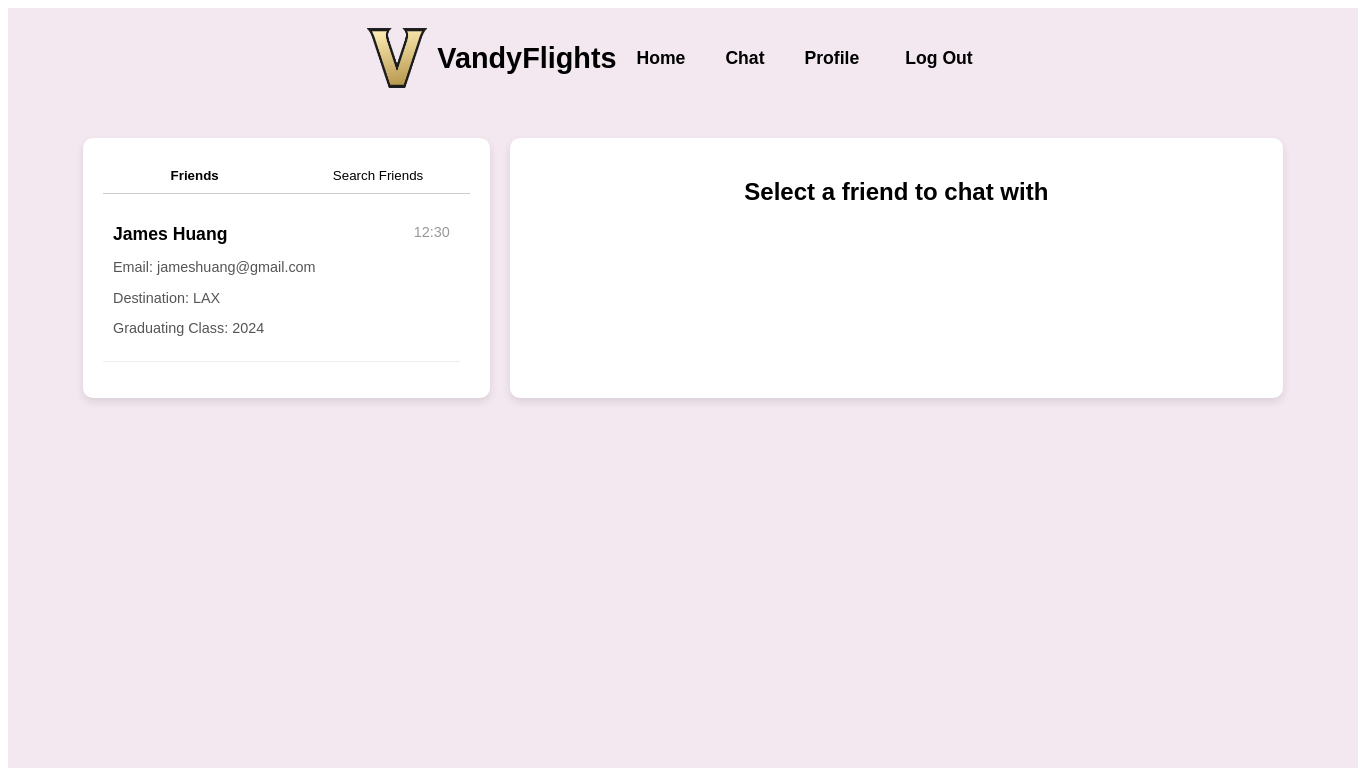
ChatPage › adds a friend from search results to friends list
Click the button "Search Friends".
click(378, 176)  # box [286,158,470,193]
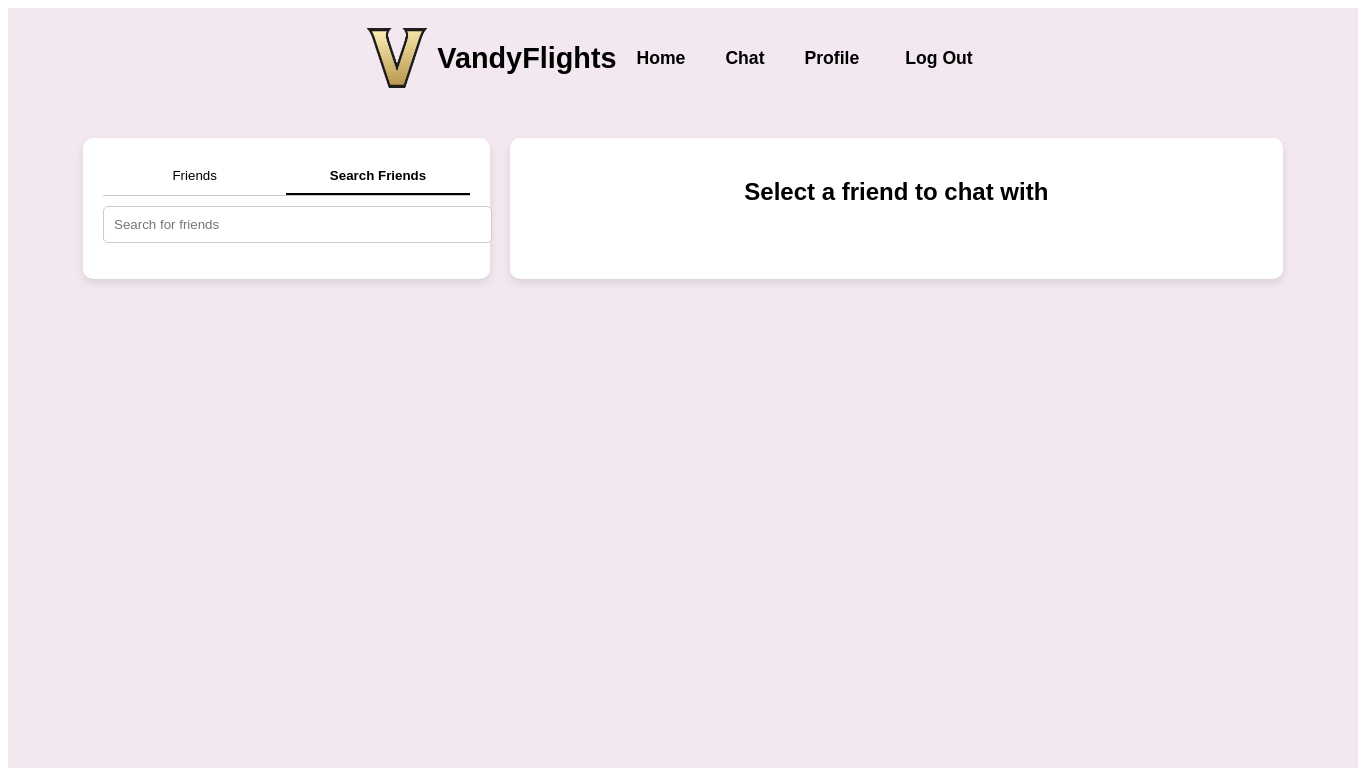
Type "Jane" into the field with placeholder "Search for friends".
click(297, 224); type("Jane")  # box [103,206,492,243]
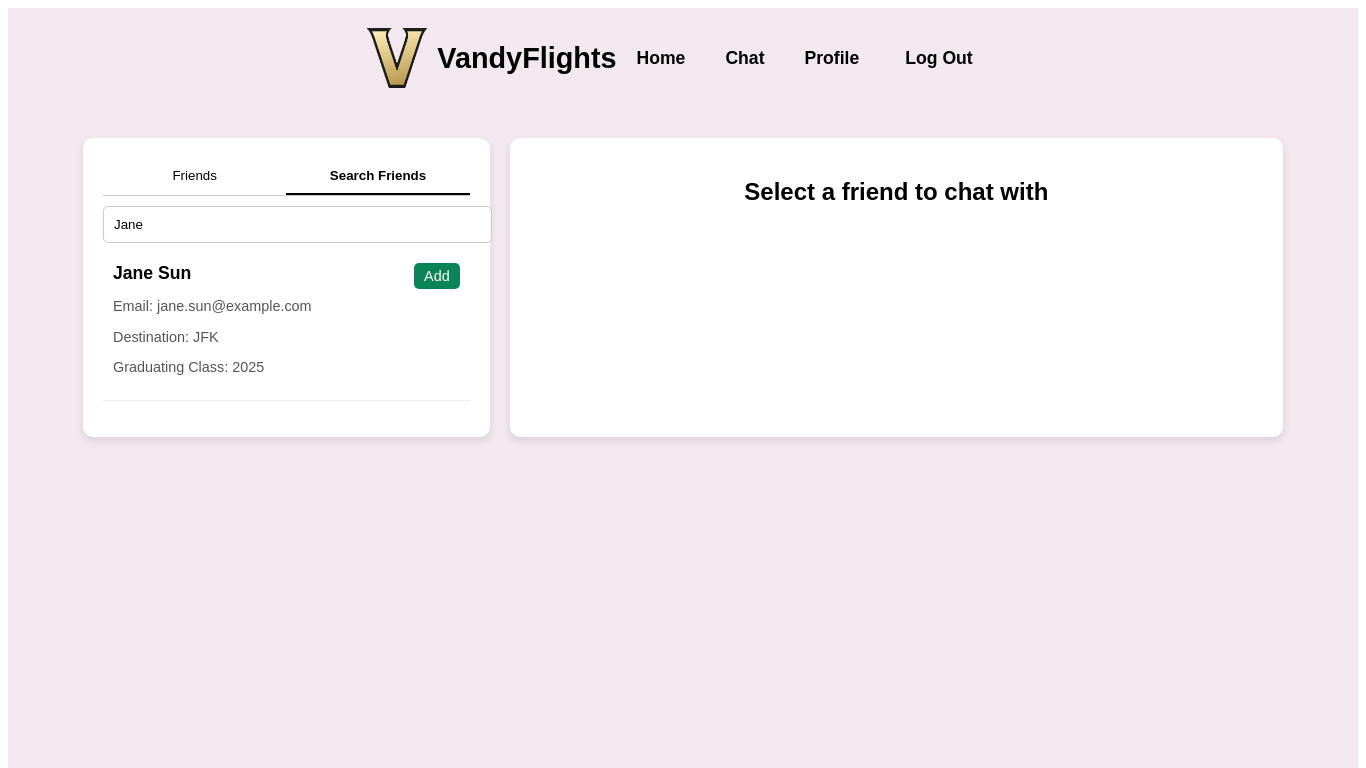
Click the button "Add".
click(437, 276)  # box [414,263,460,289]
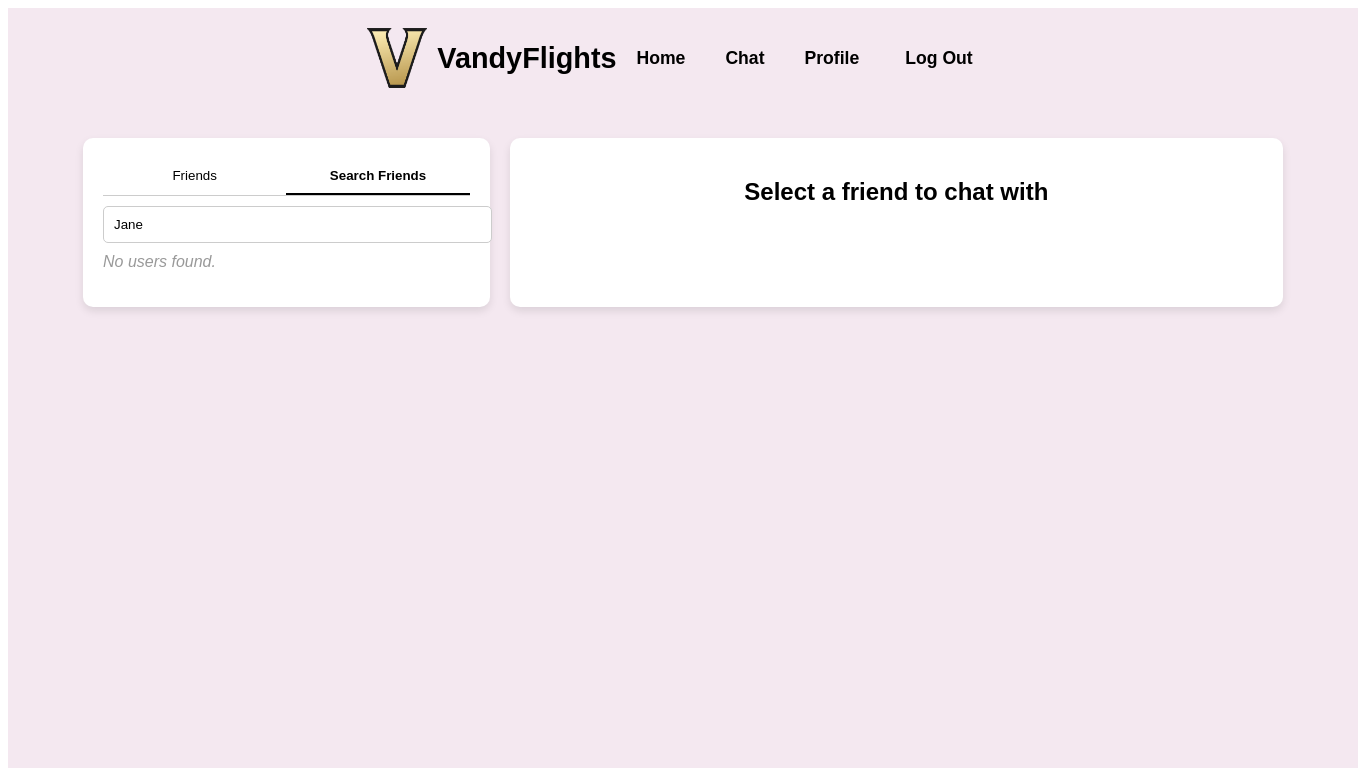
Click the button "Friends".
click(195, 176)  # box [103,158,286,195]
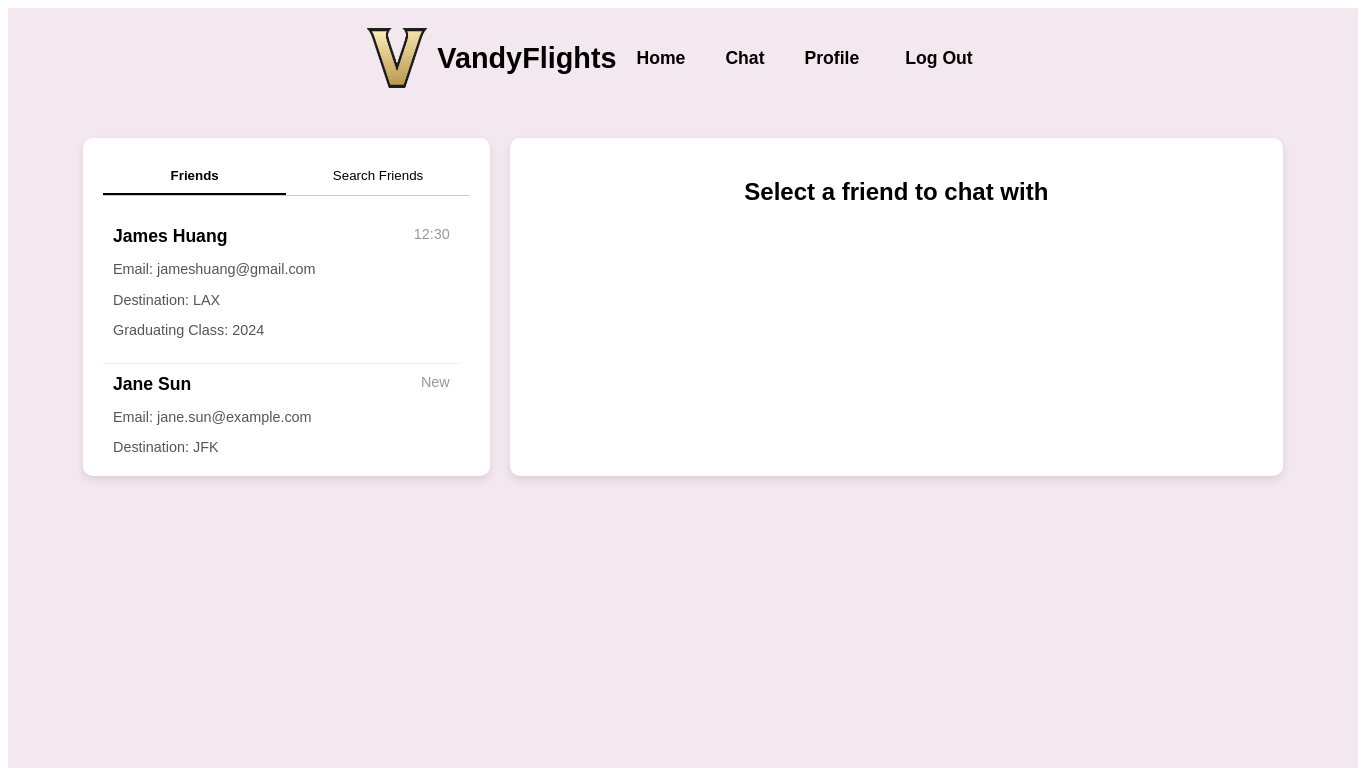
Now the text "Jane Sun" is shown, box [113,374,191,394]
